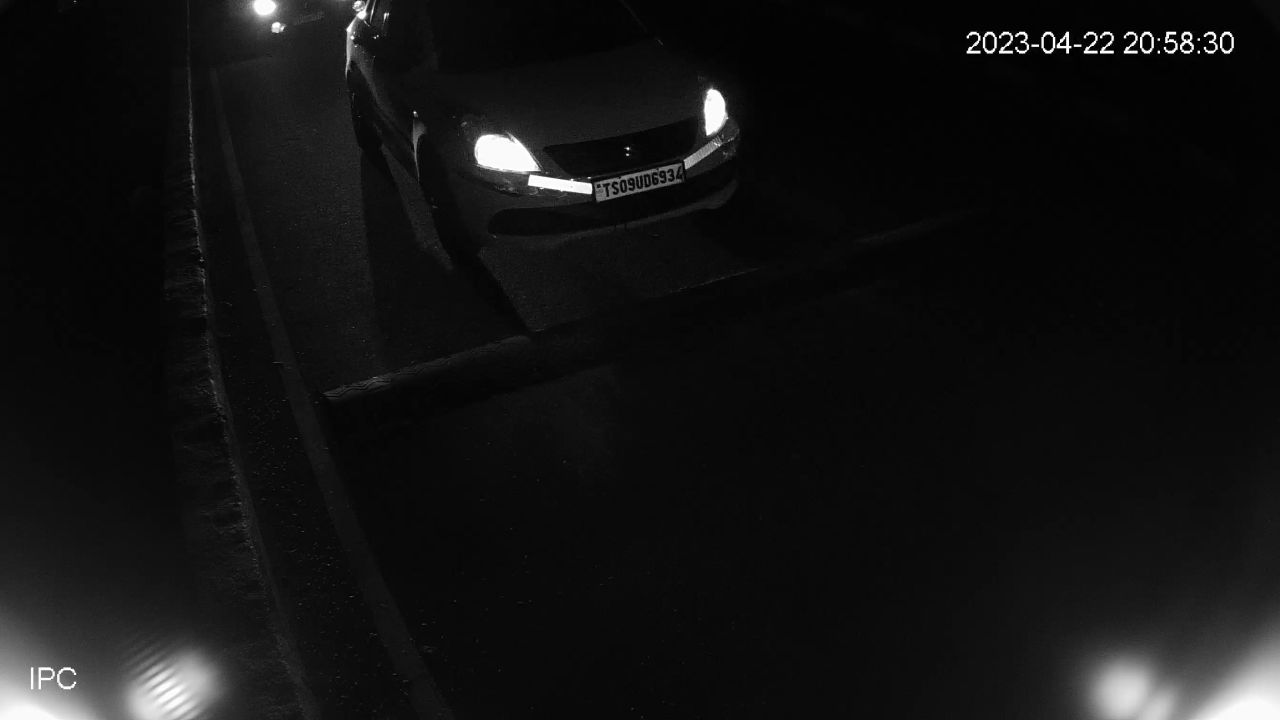license_plate: (587, 157, 691, 203)
